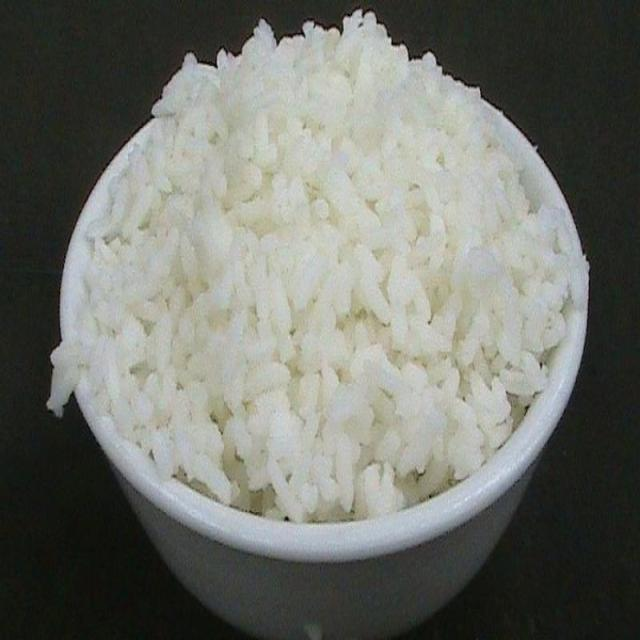nasi_putih: (75, 8, 582, 522)
